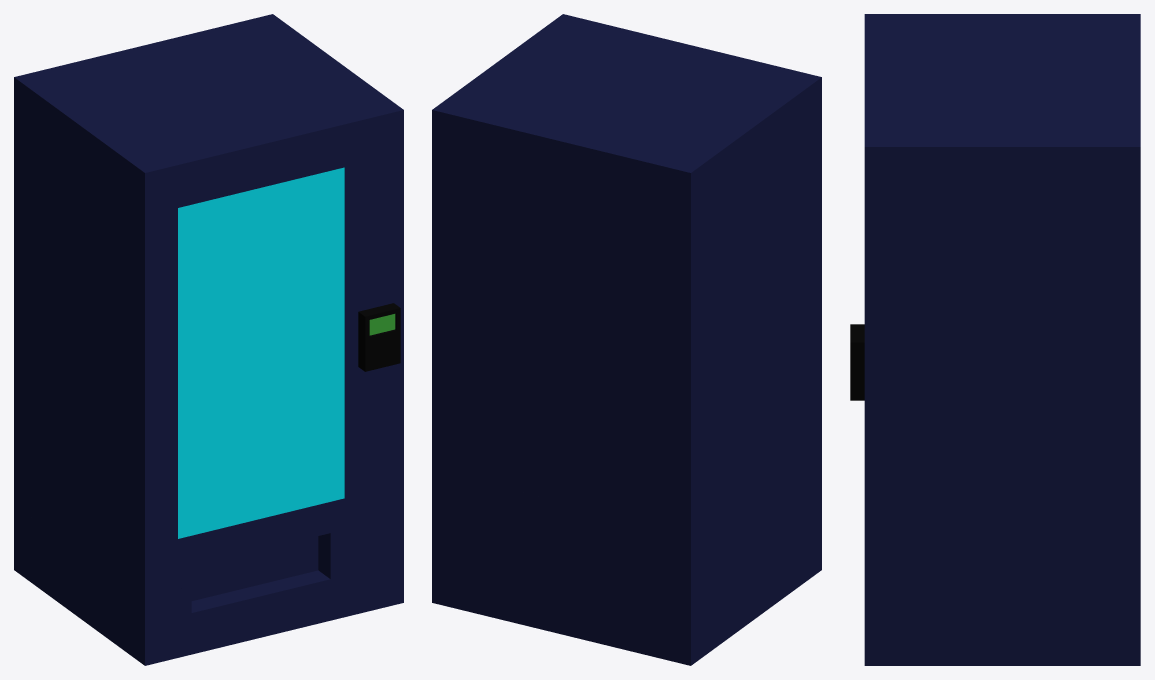
Rendered from SodaMachineModel.fbx.
The picture shows the model from 3 angles, left to right: view 1: azimuth 30°, elevation 25°; view 2: azimuth 150°, elevation 25°; view 3: azimuth 270°, elevation 25°; orthographic projection. The views are drawn at different scales.
Parts seen in each view (by area): view 1: New_Game_Object, glass, New_Game_Object_1; view 2: New_Game_Object; view 3: New_Game_Object, New_Game_Object_1.
Boxes of the visible parts, x1=… form: New_Game_Object: x1=14, y1=14, x2=403, y2=665; glass: x1=178, y1=167, x2=344, y2=538; New_Game_Object_1: x1=358, y1=303, x2=400, y2=371; New_Game_Object: x1=432, y1=14, x2=821, y2=665; New_Game_Object: x1=864, y1=14, x2=1140, y2=665; New_Game_Object_1: x1=850, y1=324, x2=864, y2=400.
Size of the model in its own units: 146 by 265 by 134.
